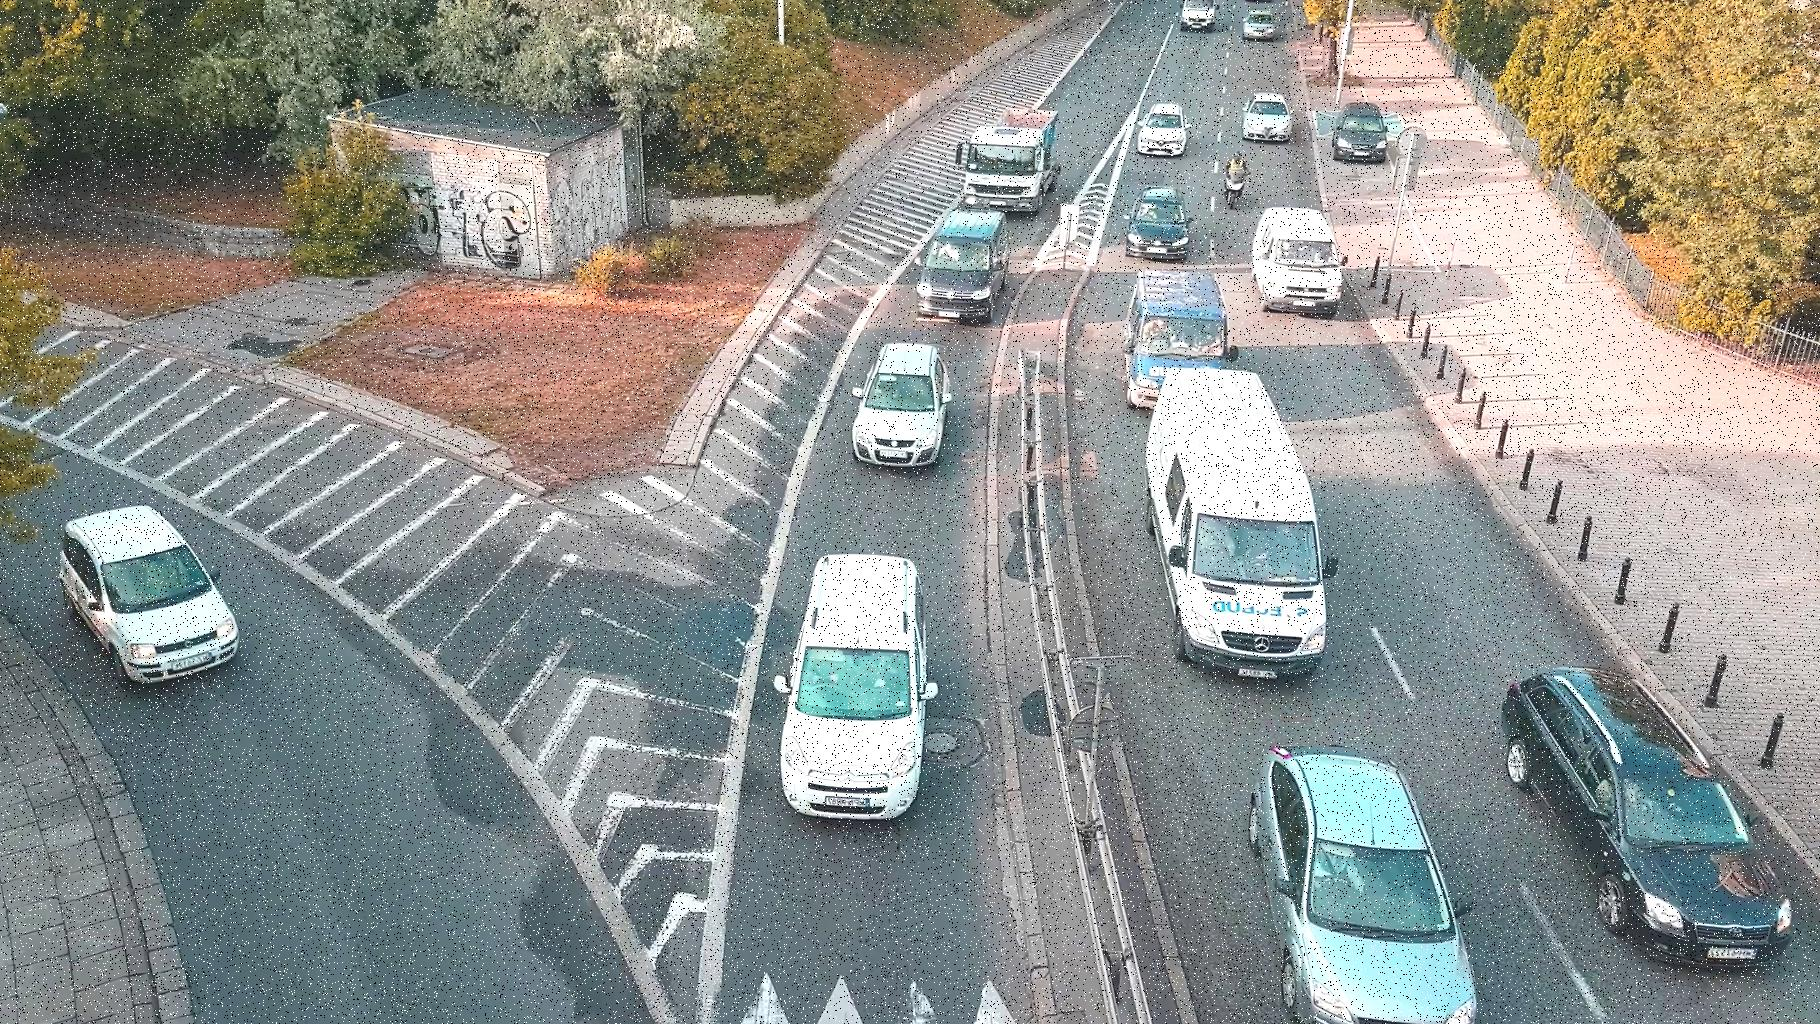bike: (1222, 146, 1251, 208)
car: (1485, 659, 1797, 961), (1245, 736, 1492, 1024), (1141, 354, 1334, 678), (792, 538, 930, 809), (54, 509, 245, 680), (905, 206, 1012, 331), (851, 334, 950, 461), (1127, 261, 1231, 378), (1246, 203, 1347, 313), (1119, 181, 1201, 261), (1330, 95, 1392, 163), (1134, 96, 1196, 158), (1237, 88, 1300, 143), (1177, 0, 1226, 38), (1241, 4, 1280, 41)
truck: (957, 100, 1069, 209)
